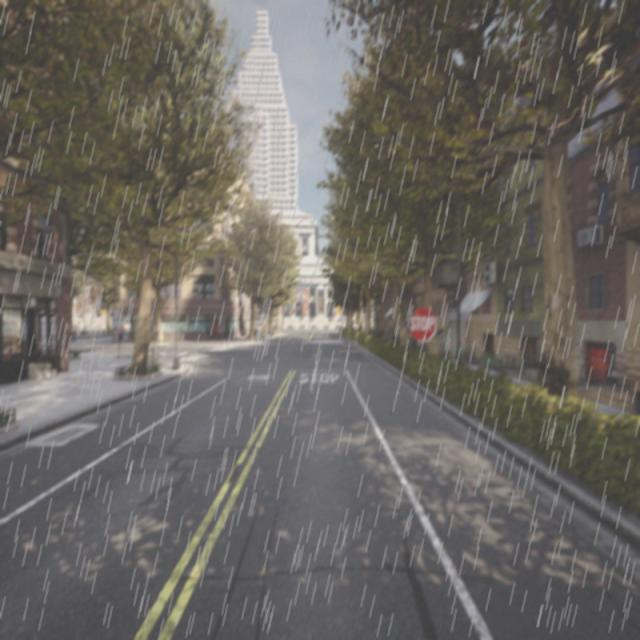stop sign: (406, 302, 439, 345)
